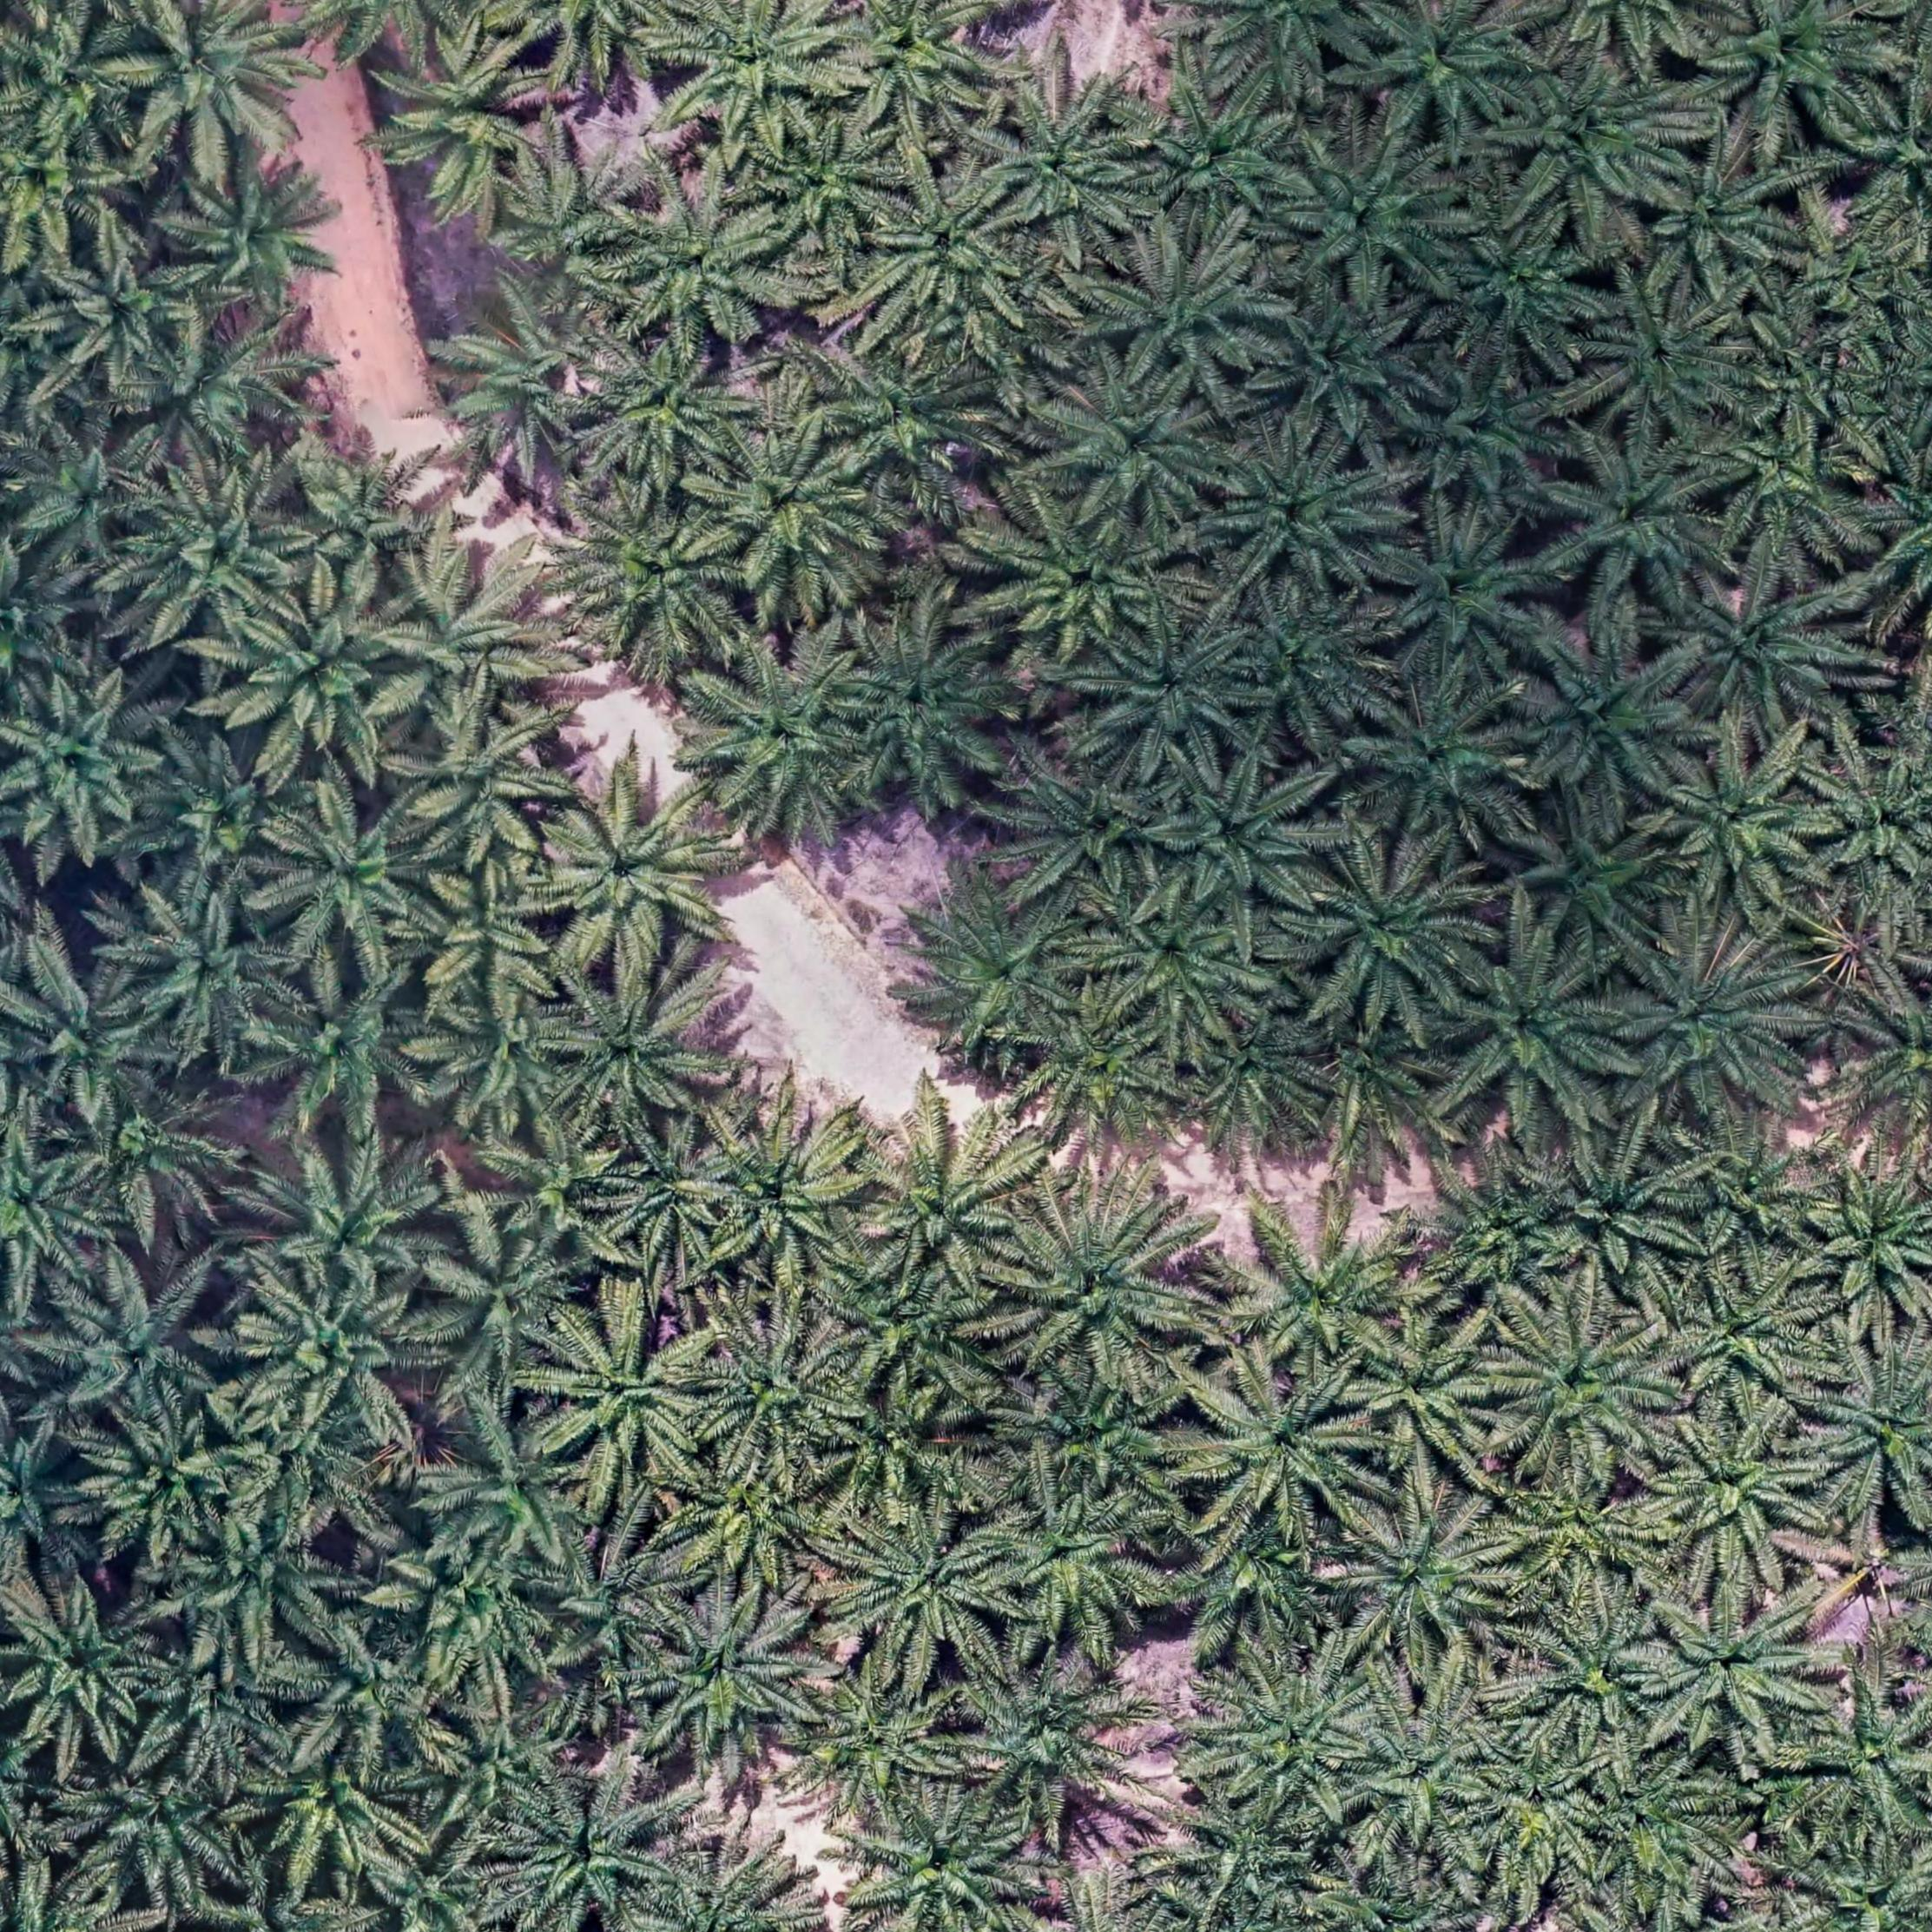palmtree: (994, 1182, 1210, 1385), (1608, 929, 1821, 1131), (1430, 936, 1635, 1138), (235, 1134, 456, 1320), (534, 770, 738, 971), (223, 575, 423, 773), (543, 481, 750, 669), (249, 957, 451, 1148), (35, 1254, 244, 1438), (686, 642, 878, 840), (694, 423, 890, 614), (115, 462, 317, 648), (1507, 625, 1702, 816), (901, 872, 1097, 1062), (839, 612, 1026, 810), (1224, 1196, 1424, 1382), (237, 1265, 441, 1447), (113, 0, 320, 177), (1040, 356, 1240, 538), (982, 483, 1184, 663), (1658, 564, 1861, 743), (633, 1589, 828, 1775), (1537, 432, 1730, 617), (1295, 842, 1488, 1026), (1185, 1362, 1382, 1541), (161, 1500, 359, 1677), (1495, 57, 1695, 232), (260, 784, 448, 970), (1369, 502, 1560, 685), (1488, 1304, 1683, 1483), (609, 180, 803, 359), (1341, 672, 1530, 855), (437, 288, 617, 479), (1274, 129, 1468, 306), (1207, 433, 1401, 609), (692, 1102, 876, 1286), (959, 1651, 1148, 1828), (1081, 876, 1270, 1053), (812, 1240, 1010, 1408), (548, 961, 731, 1143), (862, 161, 1044, 343), (416, 1214, 598, 1396), (370, 1527, 568, 1693), (122, 879, 306, 1058), (1152, 755, 1339, 931), (379, 27, 550, 218), (1092, 230, 1284, 400), (9, 665, 177, 860), (1330, 1491, 1514, 1668), (4, 1569, 180, 1753), (373, 556, 557, 732), (832, 1506, 1023, 1675), (237, 1725, 428, 1895), (1649, 740, 1833, 915), (1645, 1407, 1828, 1582), (163, 150, 349, 322), (1497, 793, 1684, 961), (1640, 1582, 1828, 1750), (1081, 609, 1263, 780), (134, 734, 317, 906), (1253, 285, 1440, 451), (1392, 354, 1580, 520), (856, 1116, 1039, 1286), (1198, 1652, 1382, 1821), (58, 1072, 244, 1238), (120, 313, 306, 478), (573, 334, 761, 497), (980, 78, 1155, 249), (545, 1309, 720, 1481), (396, 695, 566, 870), (998, 754, 1182, 913), (83, 1403, 257, 1571), (789, 1658, 971, 1817), (11, 952, 177, 1125), (494, 1773, 676, 1930), (428, 1408, 602, 1573), (1573, 276, 1746, 441), (817, 341, 996, 501), (1016, 996, 1189, 1159), (987, 1483, 1166, 1640), (665, 0, 855, 149), (1414, 1157, 1582, 1323), (62, 1760, 251, 1907), (1700, 409, 1881, 563), (1799, 736, 1932, 945), (1343, 1311, 1509, 1477), (133, 1629, 311, 1783), (1005, 1361, 1196, 1504), (1536, 1132, 1700, 1299), (849, 1790, 1042, 1932), (1698, 0, 1891, 142), (665, 1444, 844, 1596), (1339, 1695, 1502, 1861), (1635, 142, 1805, 301), (1580, 1748, 1744, 1909), (1433, 218, 1605, 372), (1224, 586, 1391, 743), (1134, 80, 1306, 232), (1352, 0, 1536, 142), (426, 989, 593, 1145), (1491, 1458, 1667, 1603), (412, 863, 575, 1019), (1175, 1001, 1339, 1155), (425, 1693, 591, 1845), (533, 1527, 692, 1684), (690, 1313, 858, 1461), (821, 0, 1000, 138), (46, 241, 203, 395), (1307, 1010, 1460, 1169), (1665, 1115, 1831, 1260), (1460, 1732, 1615, 1886), (294, 1622, 453, 1773), (1663, 1265, 1826, 1412), (283, 449, 437, 602), (1808, 1339, 1932, 1523), (0, 0, 138, 161), (1522, 1605, 1674, 1746), (481, 1111, 635, 1251), (814, 1376, 973, 1509), (12, 425, 152, 575), (1806, 1161, 1932, 1327), (755, 119, 908, 255), (0, 1120, 113, 1302), (0, 529, 103, 729), (1805, 1681, 1932, 1840), (1200, 1514, 1350, 1649), (1196, 0, 1392, 97), (501, 152, 644, 285), (1175, 1783, 1323, 1911), (0, 1410, 108, 1585), (603, 1120, 736, 1261), (357, 1836, 518, 1932), (1741, 322, 1870, 441), (0, 122, 104, 267), (1787, 214, 1913, 333), (1840, 74, 1932, 232), (1799, 1842, 1932, 1932)
